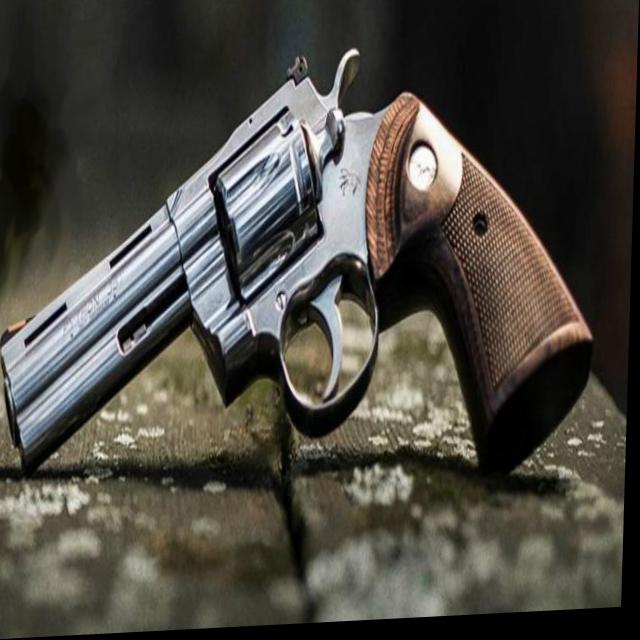handgun: (0, 35, 603, 498)
